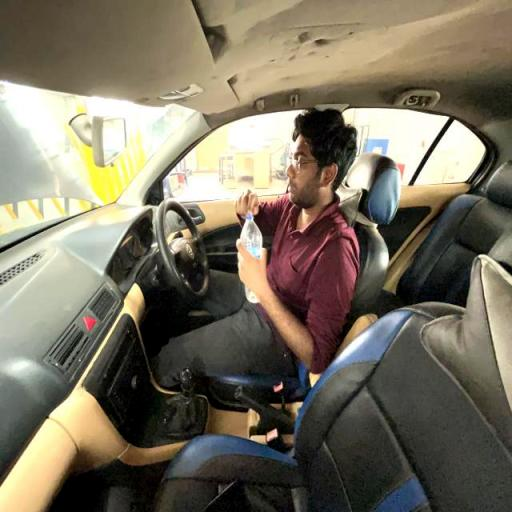Drinking: (198, 111, 359, 382)
